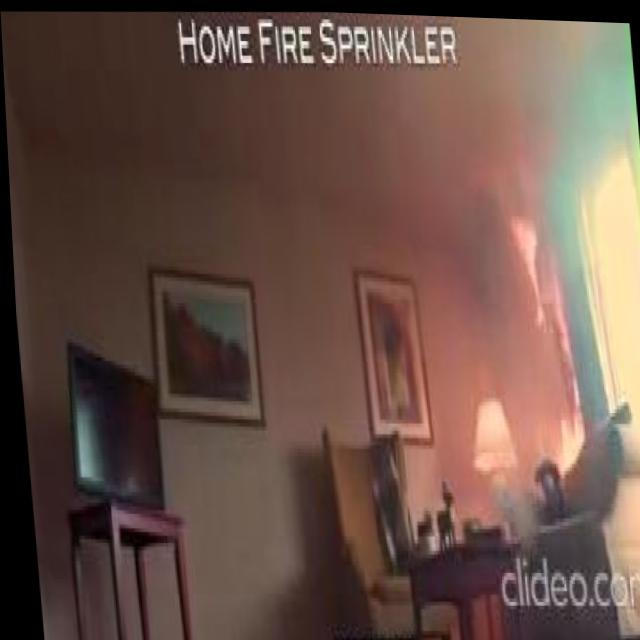fire: (499, 192, 547, 322), (545, 273, 574, 394), (551, 389, 583, 474)
